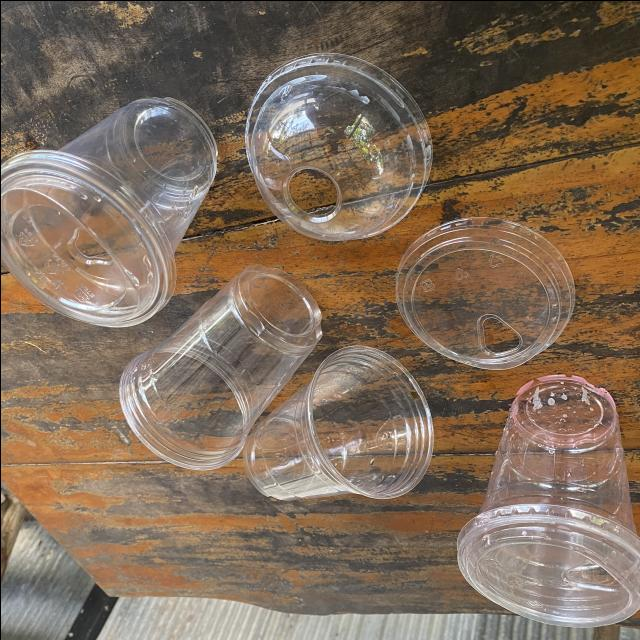plastik: (0, 97, 216, 326), (457, 374, 640, 626), (119, 264, 321, 469), (245, 51, 431, 240), (243, 345, 433, 499), (395, 216, 574, 368)
